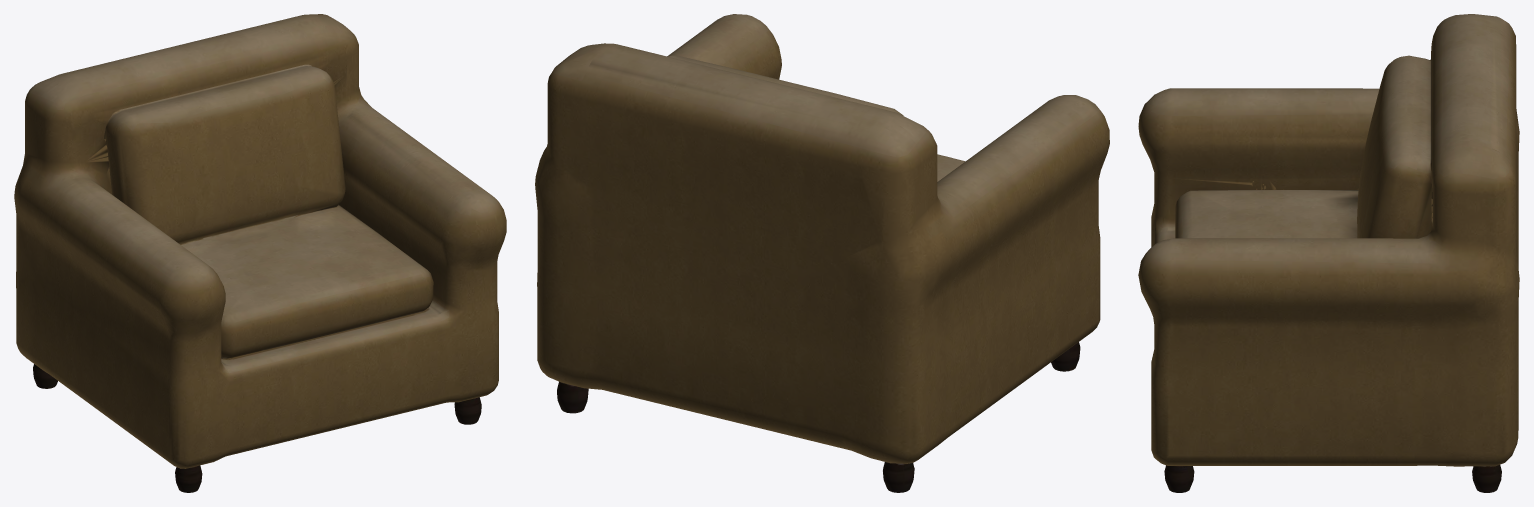
The model's file is armchair_leather.glb.
The picture shows the model from 3 angles, left to right: view 1: azimuth 30°, elevation 25°; view 2: azimuth 150°, elevation 25°; view 3: azimuth 270°, elevation 25°; orthographic projection. The views are drawn at different scales.
Visible parts, largest first — view 1: armchair_leather; view 2: armchair_leather; view 3: armchair_leather.
Boxes of the visible parts, bbox=[...] form: armchair_leather: bbox=[14, 14, 506, 492]; armchair_leather: bbox=[535, 14, 1109, 492]; armchair_leather: bbox=[1138, 14, 1519, 492].
Bounding box in the file's own units: 1.03 × 0.8879 × 0.9171.
Materials: 1 (1 with a texture image).
